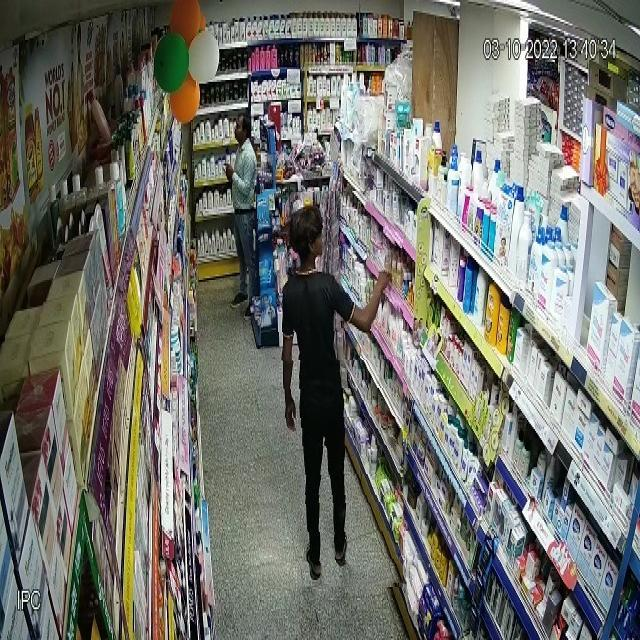Normal: (261, 192, 403, 588)
